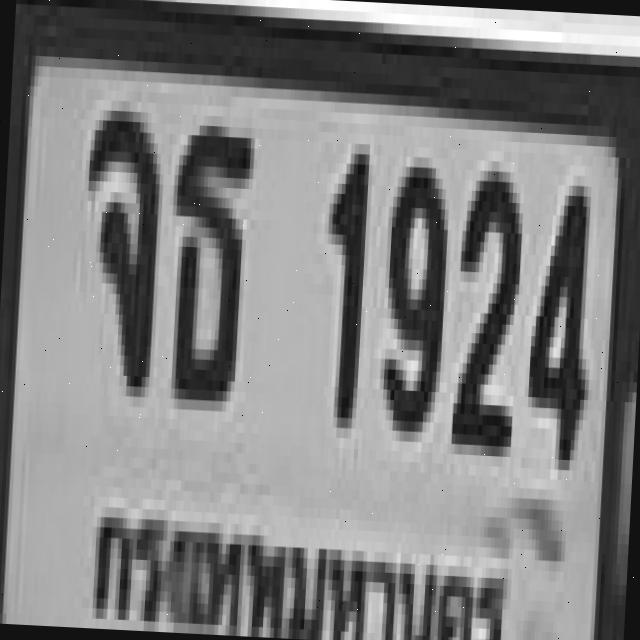1: (318, 142, 366, 418)
17ChorChan: (74, 100, 160, 388)
2: (448, 160, 522, 446)
33ThorThong: (164, 114, 252, 392)
4: (522, 174, 592, 461)
9: (378, 156, 448, 423)
